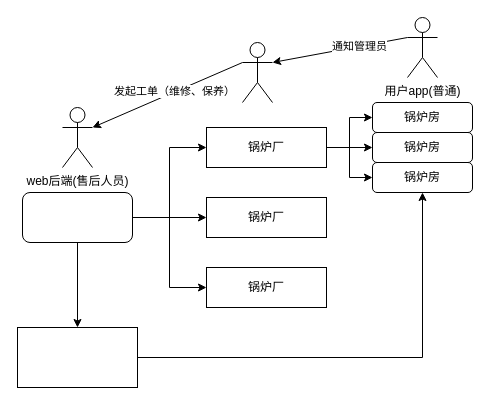
Some shapes in this 490 by 405 pixel diagram are drawn without their labels. The shapes that lost their labels are listed below. From the top down, each one's centre as x and y in pixels, then its label:
(257,72): 用户app(管理员)
(77,217): 锅炉制造商
(77,357): 维修人员 维修工App
